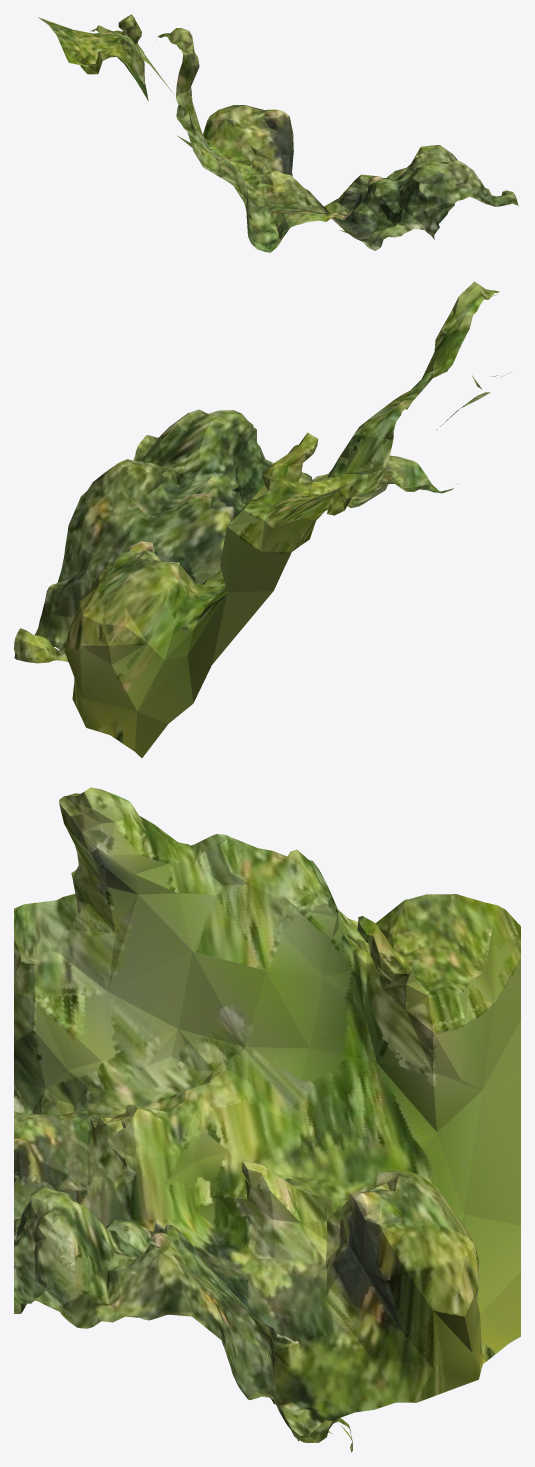
3 renders of one model, top to bottom at view 1: azimuth 30°, elevation 25°; view 2: azimuth 150°, elevation 25°; view 3: azimuth 270°, elevation 25°, orthographic. The views are drawn at different scales.
Bounding box in the file's own units: 2.95 × 2.94 × 2.95.
4 materials, 4 textured.
